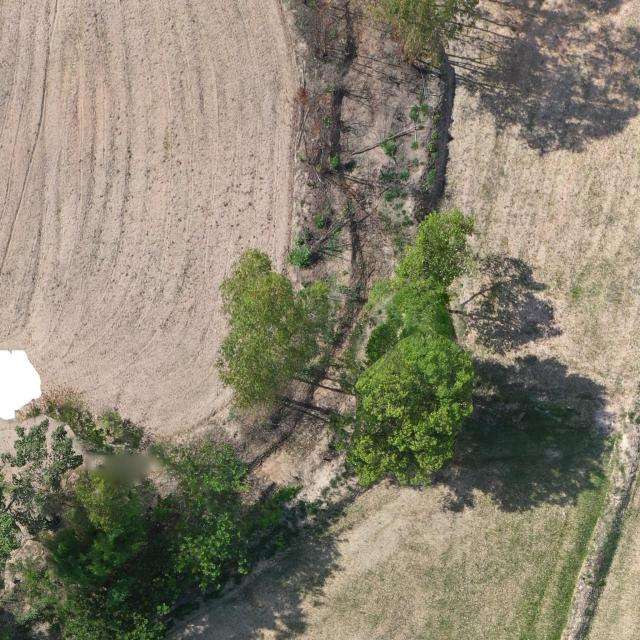Tree: (0, 389, 253, 640), (330, 324, 481, 492), (204, 250, 332, 408), (362, 270, 464, 368), (369, 0, 483, 65), (396, 208, 486, 283)
